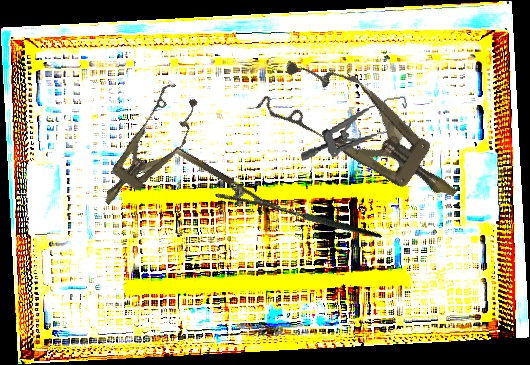Hook Surgical: (253, 159, 383, 287)
Needle Holder: (164, 145, 282, 228)
Speculum: (255, 40, 478, 229), (85, 78, 210, 220), (294, 95, 415, 163)
